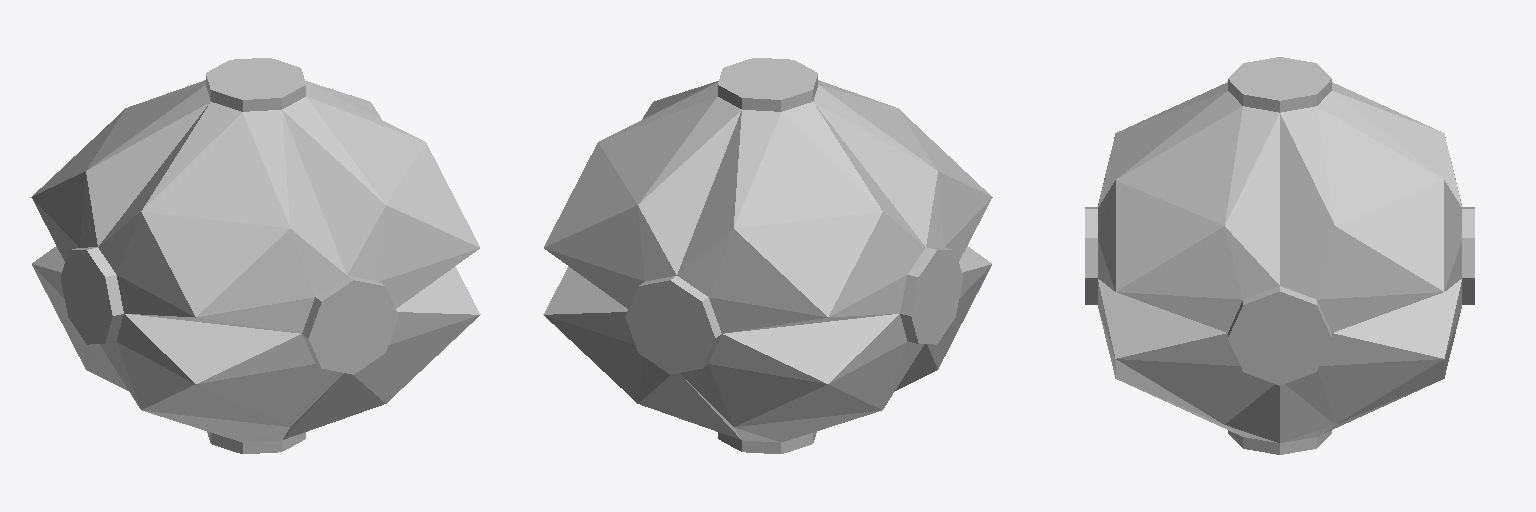
The model's file is AdvShieldController.obj.
3 views of the same model, side by side, from view 1: azimuth 30°, elevation 25°; view 2: azimuth 150°, elevation 25°; view 3: azimuth 270°, elevation 25° (orthographic).
Visible parts, largest first — view 1: Laser_connector.001; view 2: Laser_connector.001; view 3: Laser_connector.001.
Boxes of the visible parts, <box> form: Laser_connector.001: <box>31,58,480,453</box>; Laser_connector.001: <box>543,58,992,453</box>; Laser_connector.001: <box>1085,57,1474,454</box>.
Size of the model in its own units: 3 by 3 by 3.